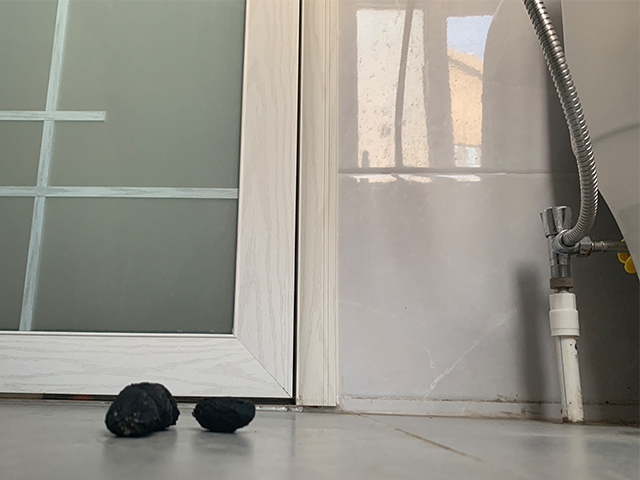feces: (102, 380, 183, 439), (191, 390, 261, 435)
